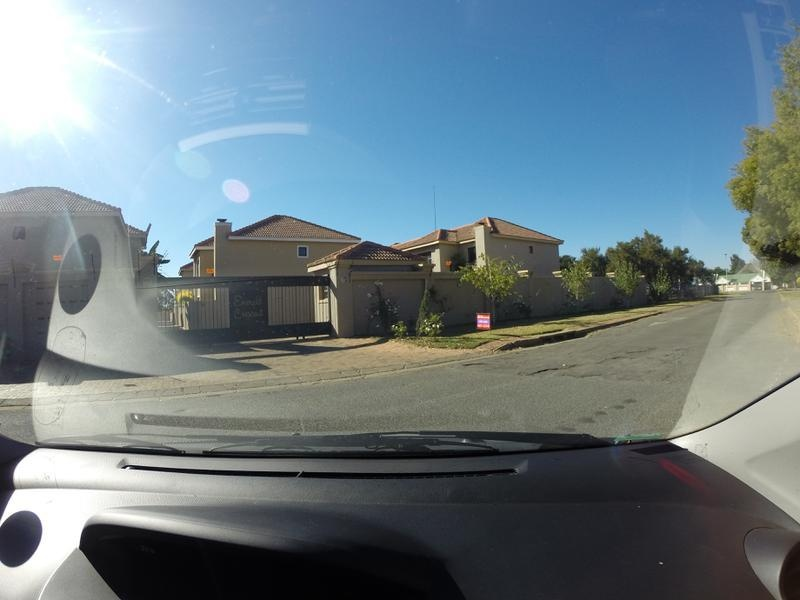pothole: (523, 359, 586, 378), (601, 353, 641, 375), (458, 361, 495, 367)
